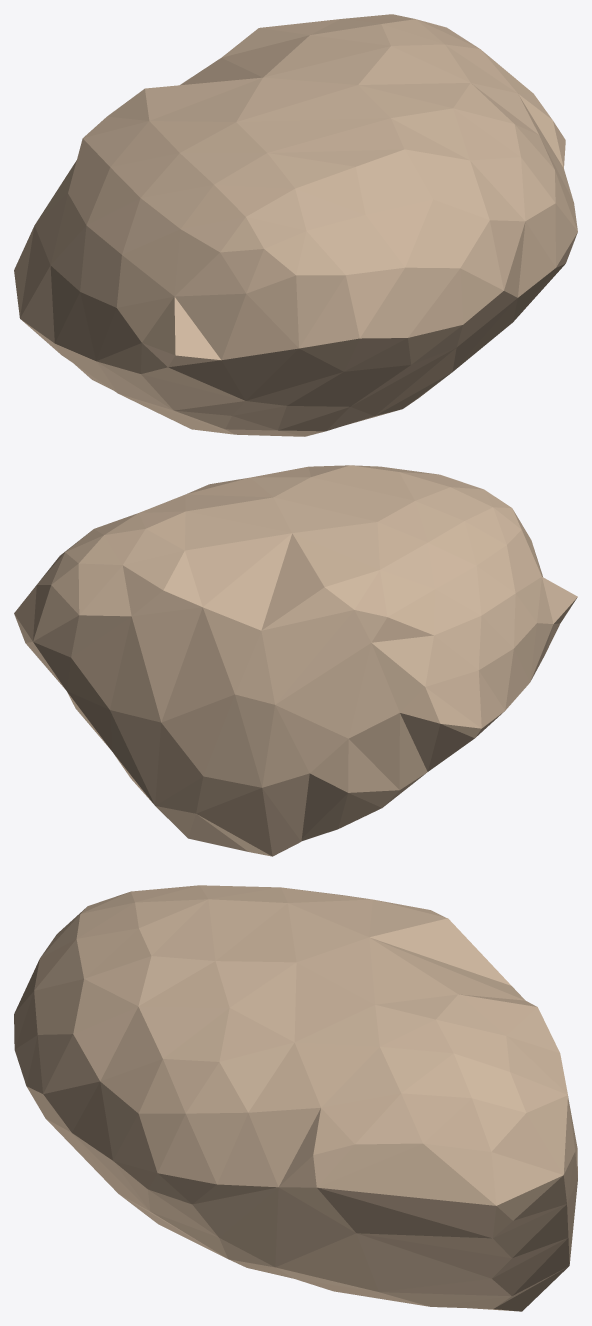
Rendered from Model_273_RH__Anterior_pulvinar_(APul).obj.
The picture shows the model from 3 angles, top to bottom: view 1: azimuth 30°, elevation 25°; view 2: azimuth 150°, elevation 25°; view 3: azimuth 270°, elevation 25°; orthographic projection. The views are drawn at different scales.
Bounding box in the file's own units: 0.7544 × 0.4869 × 0.6886.
